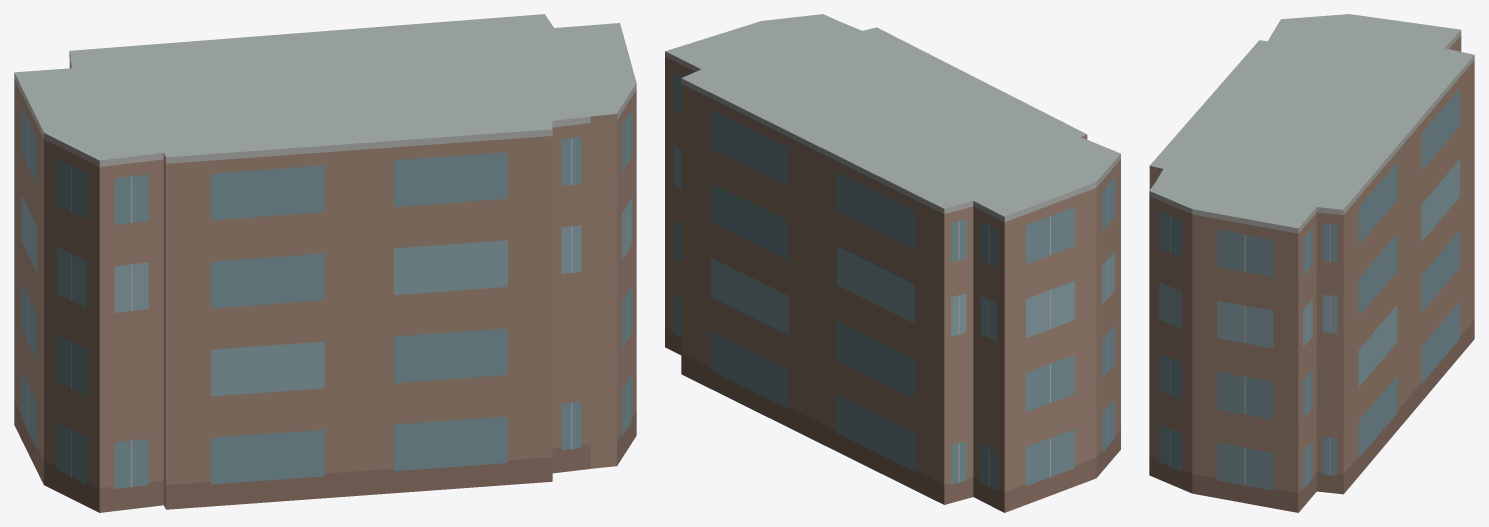
Rendered from survey-upis-32847586.glb.
The picture shows the model from 3 angles, left to right: view 1: azimuth 30°, elevation 25°; view 2: azimuth 150°, elevation 25°; view 3: azimuth 270°, elevation 25°; orthographic projection. The views are drawn at different scales.
Visible parts, largest first — view 1: survey-upis-32847586.tmp; view 2: survey-upis-32847586.tmp; view 3: survey-upis-32847586.tmp.
Boxes of the visible parts, <box> form: survey-upis-32847586.tmp: <box>14,14,636,512</box>; survey-upis-32847586.tmp: <box>665,14,1120,512</box>; survey-upis-32847586.tmp: <box>1149,14,1474,512</box>.
Bounding box in the file's own units: 21.36 × 13.2 × 13.69.
